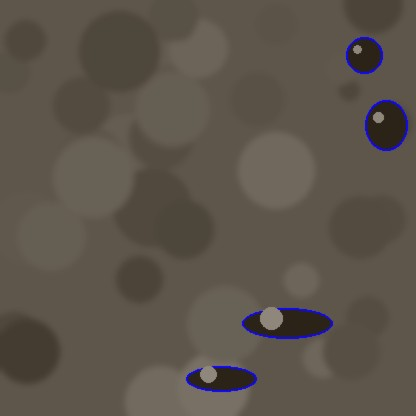gota: (242, 309, 332, 341), (365, 102, 407, 154), (186, 367, 256, 393), (346, 38, 382, 76)
